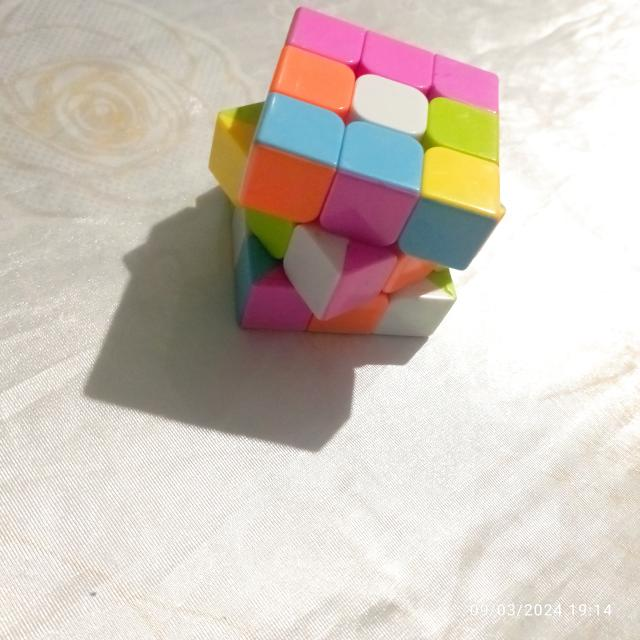Rub: (206, 3, 509, 342)
